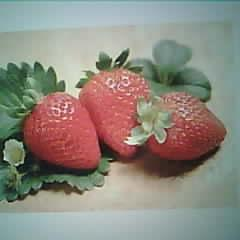straw-ripe: (81, 70, 150, 159), (25, 94, 100, 170), (151, 92, 227, 158)
